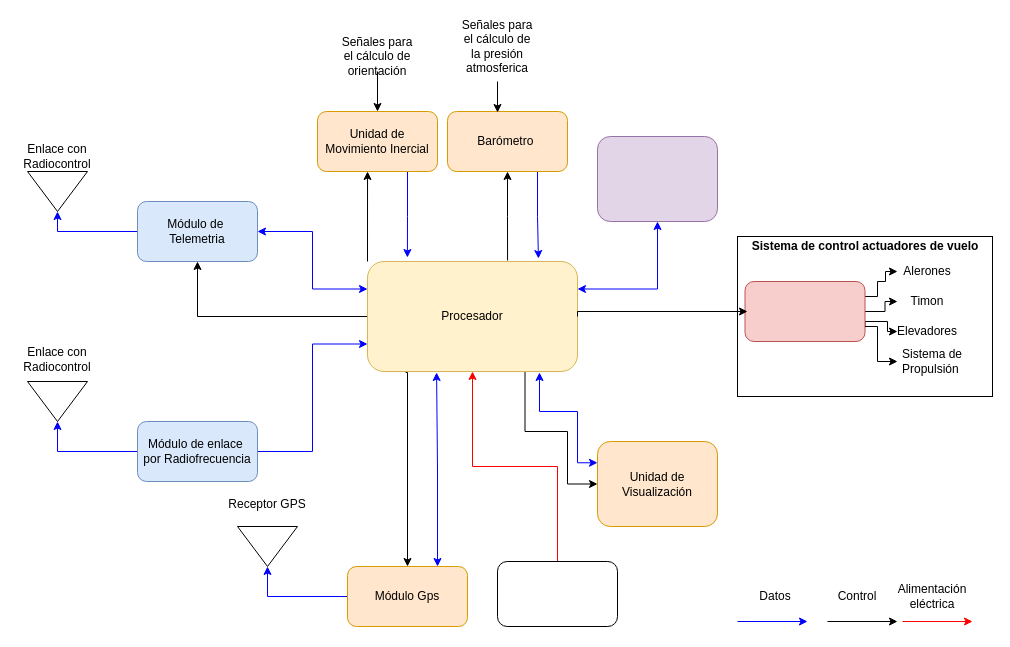
This 1010x647 diagram has some shape labels left out. The shapes that lost their labels are listed below. From the top down, each one's centre as x and y in pixels, then its label:
At [657,179]: "Unidad de Almacenamiento".
At [804,311]: "Servomotores".
At [557,593]: "Unidad de Alimentación eléctrica".
